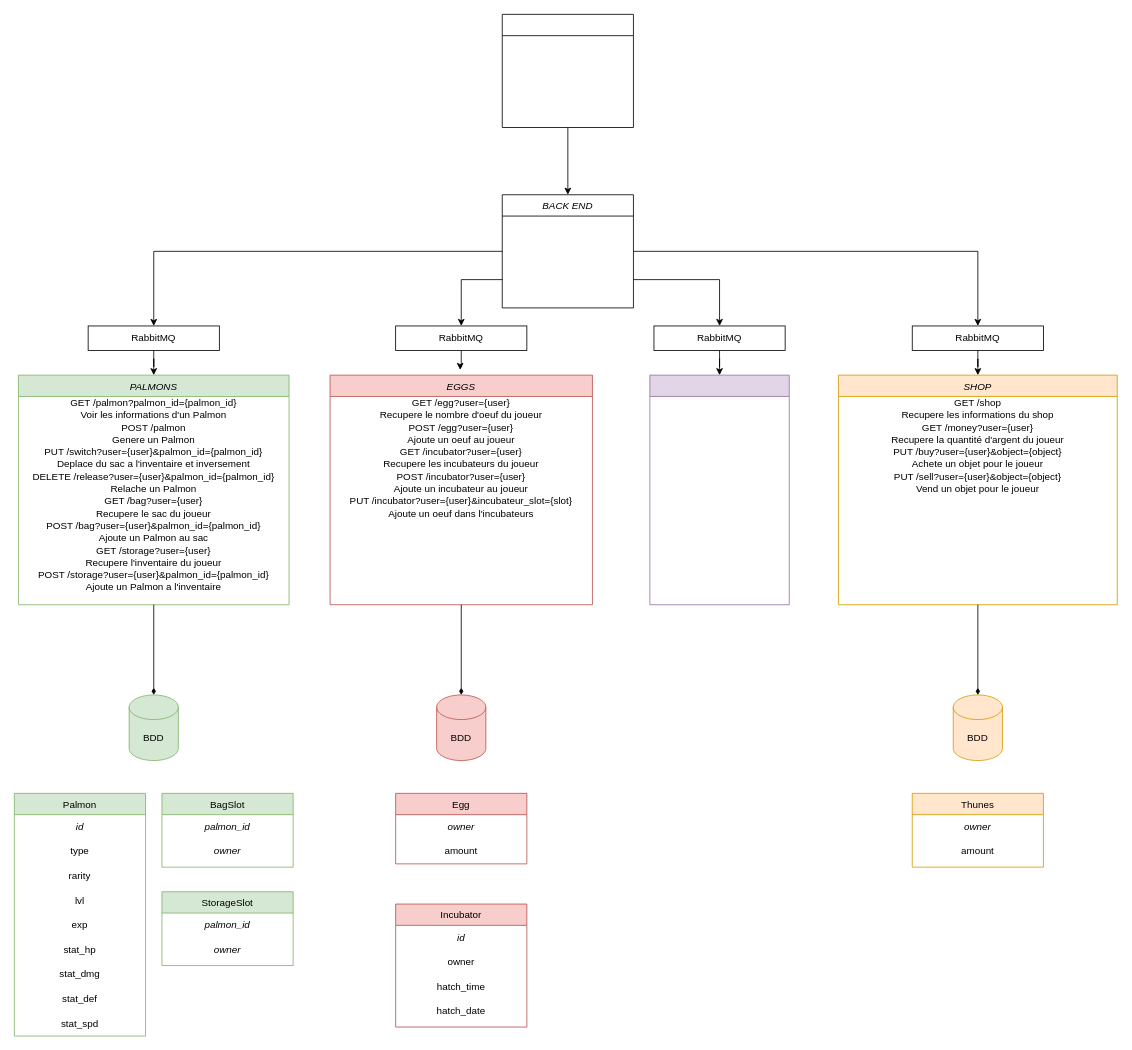
This 1132x1050 diagram has some shape labels left out. The shapes that lost their labels are listed below. From the top down, each one's centre as x and y in pixels, then its label:
(x=567, y=71): FRONT END
(x=719, y=489): FIGHTS
